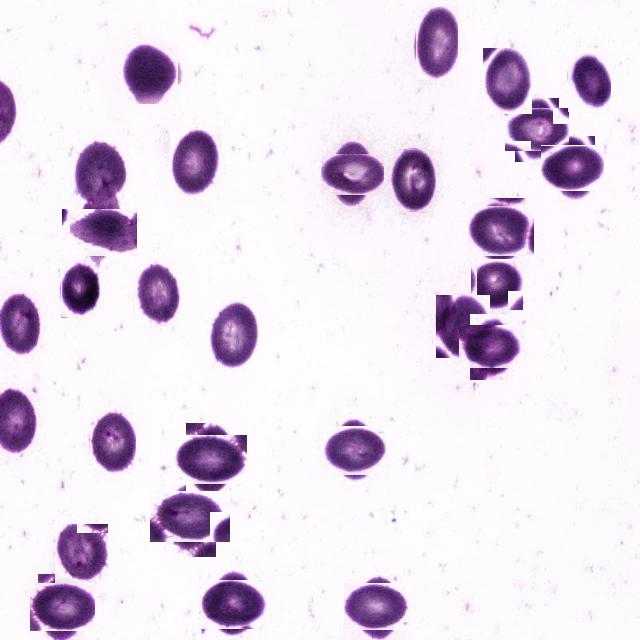red blood cell: (157, 484, 223, 550), (180, 428, 242, 491), (73, 139, 129, 207), (324, 420, 386, 481), (170, 126, 221, 200), (210, 297, 261, 370), (70, 202, 130, 264), (119, 44, 179, 104), (203, 575, 263, 634), (436, 295, 490, 358), (472, 202, 530, 260), (349, 578, 406, 635), (34, 578, 90, 636), (54, 524, 108, 584), (483, 48, 532, 114), (416, 6, 458, 80), (545, 140, 600, 196), (464, 320, 520, 374), (390, 148, 436, 212), (510, 103, 564, 157), (135, 264, 182, 326), (90, 412, 136, 474), (327, 148, 379, 200), (470, 258, 522, 310), (568, 52, 612, 113), (61, 262, 100, 318)
